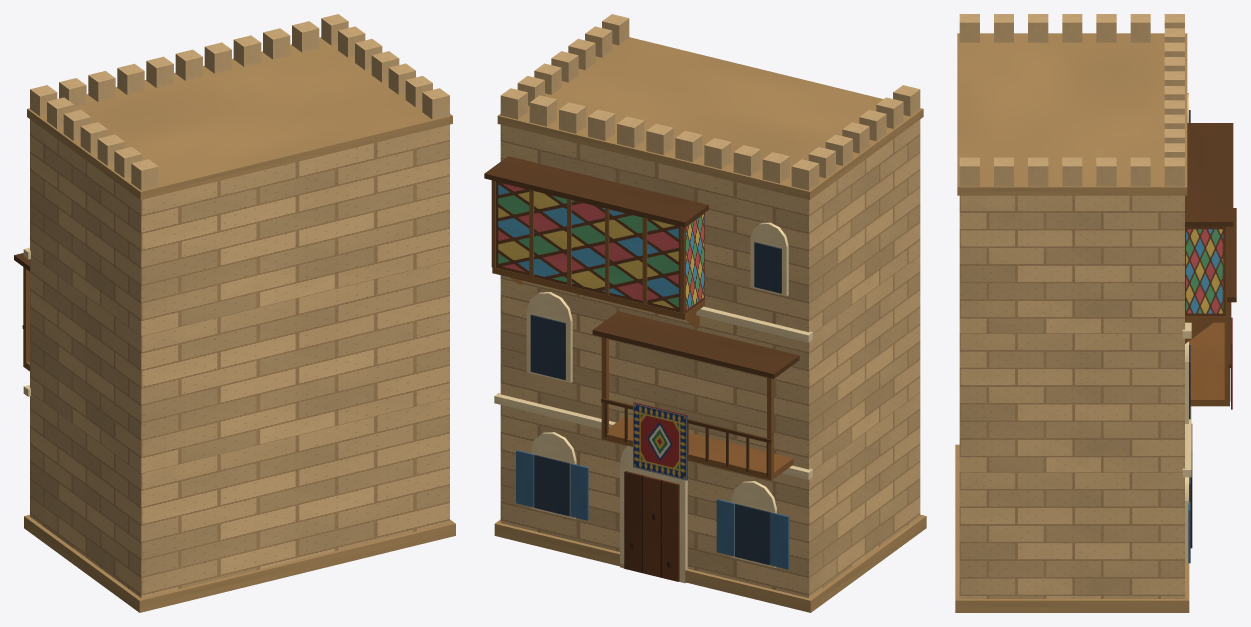
File: env_baku_house_b.glb
3 views of the same model, side by side, from view 1: azimuth 30°, elevation 25°; view 2: azimuth 150°, elevation 25°; view 3: azimuth 270°, elevation 25° (orthographic).
Visible parts, largest first — view 1: env_baku_house_b; view 2: env_baku_house_b; view 3: env_baku_house_b.
Part boxes in pixels (x1,y1,x2,y2): env_baku_house_b: (14, 14, 455, 612); env_baku_house_b: (484, 14, 926, 612); env_baku_house_b: (955, 14, 1236, 612).
Bounding box in the file's own units: 8.2 × 10.92 × 6.25.
1 material, 1 textured.
